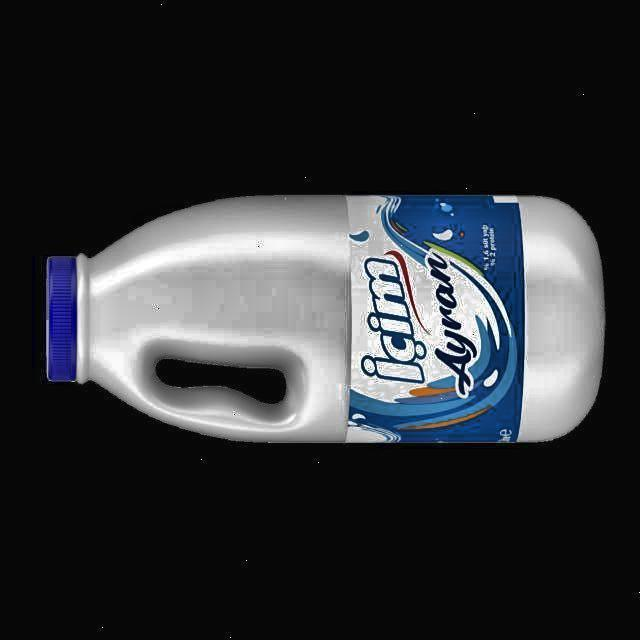plastic: (46, 195, 605, 442)
